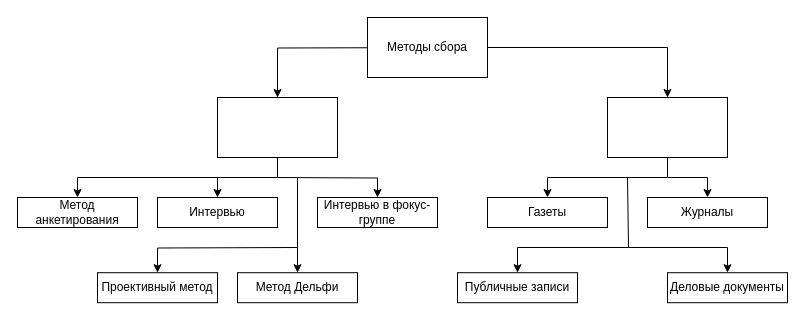
The diagram is 805 pixels wide and 321 high, and some of its shapes have lost their labels. Each missing label, with the box of its shape:
Вторичные: (606, 96, 728, 158)
Первичные: (216, 96, 338, 158)
